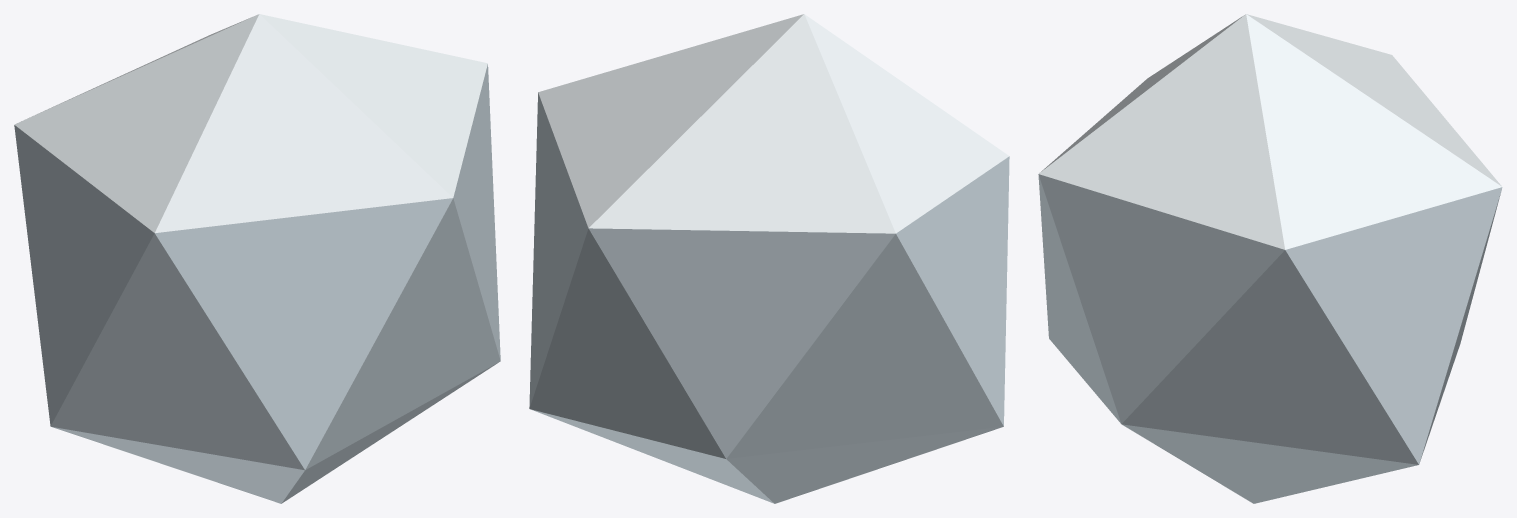
The model's file is snowball.glb.
The picture shows the model from 3 angles, left to right: view 1: azimuth 30°, elevation 25°; view 2: azimuth 150°, elevation 25°; view 3: azimuth 270°, elevation 25°; orthographic projection. The views are drawn at different scales.
Parts seen in each view (by area): view 1: snowball; view 2: snowball; view 3: snowball.
Boxes of the visible parts, x1,y1,x2,y2 form: snowball: (14,14,500,503); snowball: (529,14,1009,503); snowball: (1038,14,1502,503).
Bounding box in the file's own units: 0.1739 × 0.1825 × 0.1606.
